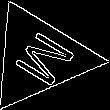M_SE: (2, 24, 77, 90)
